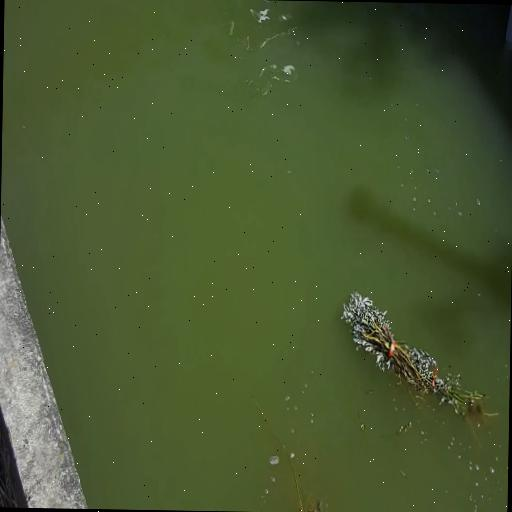twig: (342, 290, 484, 415), (252, 396, 305, 512)
